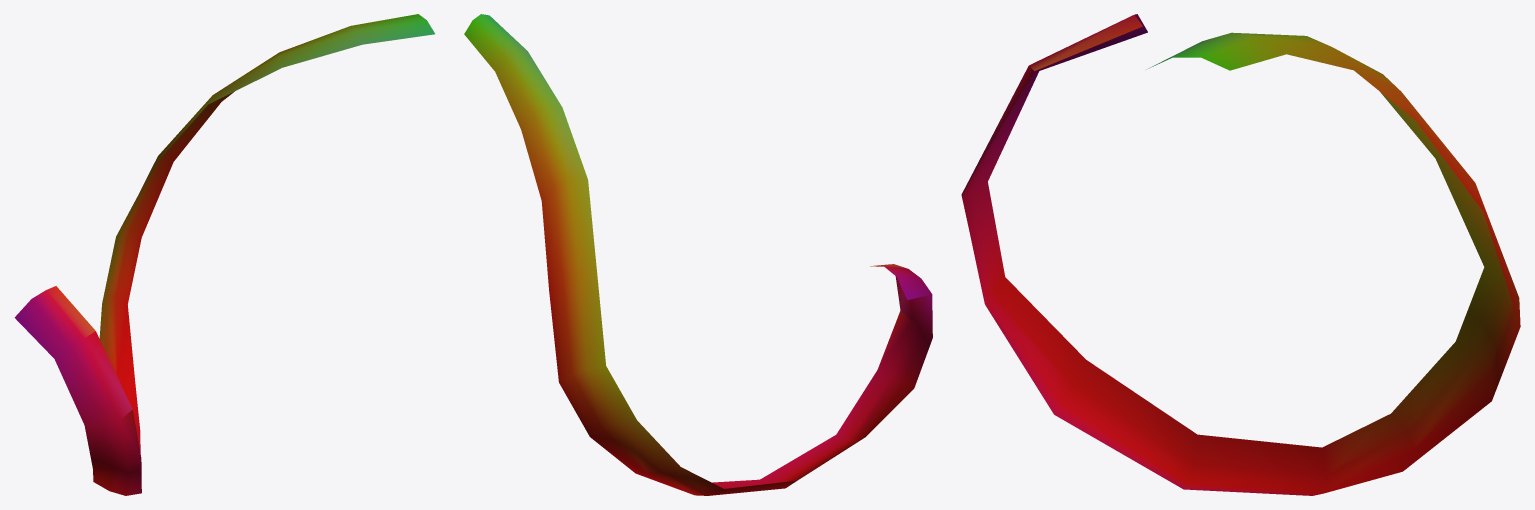
File: uni_wormhole_swirl.fbx
3 renders of one model, left to right at view 1: azimuth 30°, elevation 25°; view 2: azimuth 150°, elevation 25°; view 3: azimuth 270°, elevation 25°, orthographic. The views are drawn at different scales.
Visible parts, largest first — view 1: uni_wormhole_swirl; view 2: uni_wormhole_swirl; view 3: uni_wormhole_swirl.
Part boxes in pixels (x1=…): uni_wormhole_swirl: x1=14, y1=14, x2=434, y2=495; uni_wormhole_swirl: x1=464, y1=14, x2=932, y2=495; uni_wormhole_swirl: x1=961, y1=14, x2=1520, y2=495.
Bounding box in the file's own units: 15596 × 22687 × 20628.
